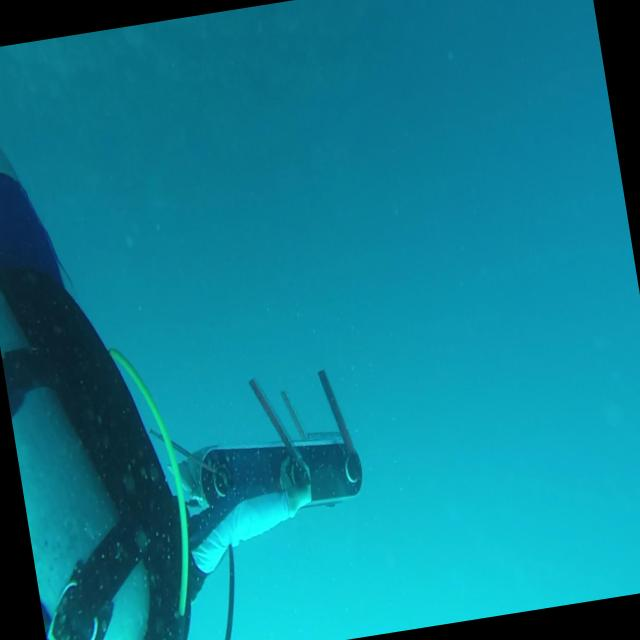human: (0, 9, 339, 640)
